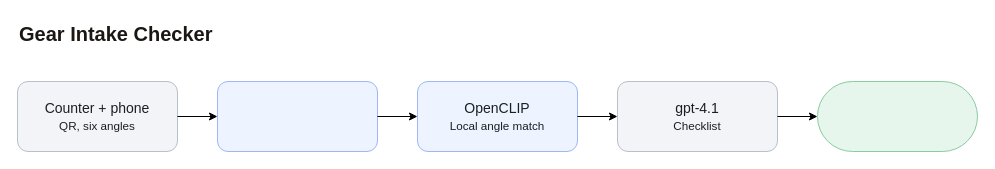
The diagram is 995 pixels wide and 169 high, and some of its shapes have lost their labels. The box of each missing label's shape, as (x1, y1, x2, y2) in pixels:
0–100 score Log, review, decline: (816, 80, 978, 152)
FastAPI Upload and score: (216, 80, 378, 152)
